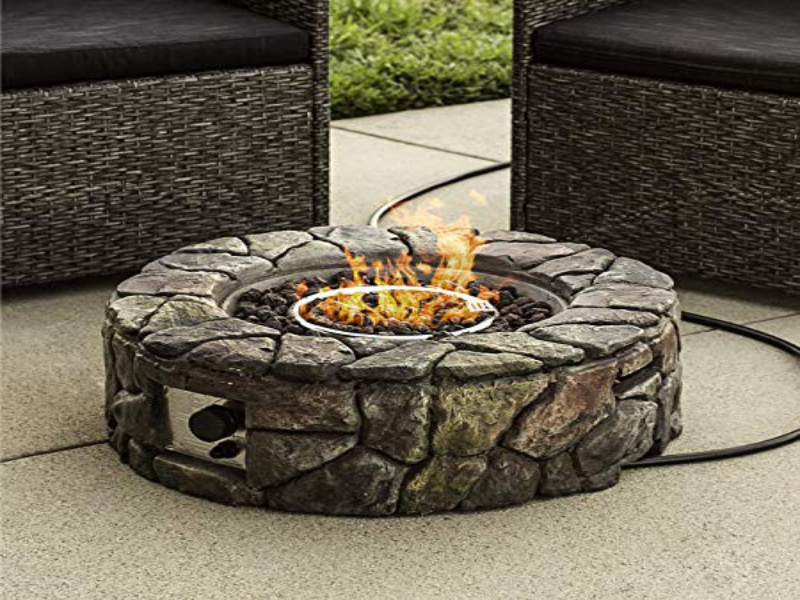fire: (286, 201, 491, 333)
